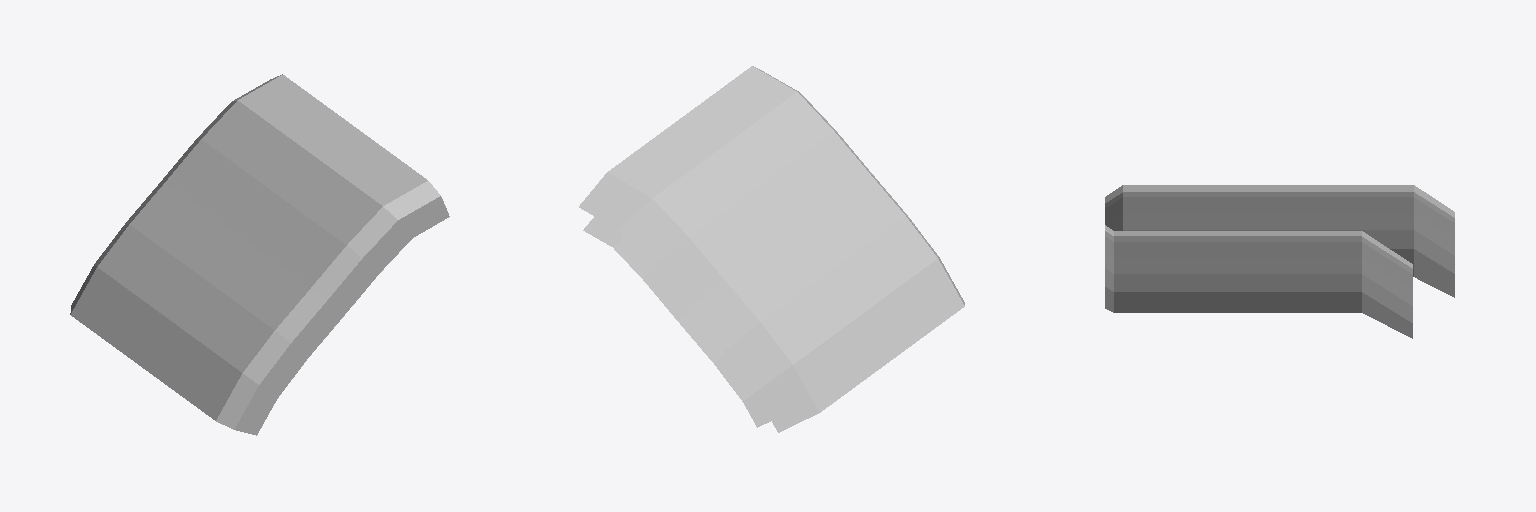
Rendered from basket004.obj.
3 views of the same model, side by side, from view 1: azimuth 30°, elevation 25°; view 2: azimuth 150°, elevation 25°; view 3: azimuth 270°, elevation 25° (orthographic).
Visible parts, largest first — view 1: basket.004; view 2: basket.004; view 3: basket.004.
Boxes of the visible parts, x1,y1,x2,y2 form: basket.004: [70, 74, 449, 435]; basket.004: [579, 66, 964, 432]; basket.004: [1105, 185, 1454, 338].
Bounding box in the file's own units: 0.126 × 0.1114 × 0.1606.